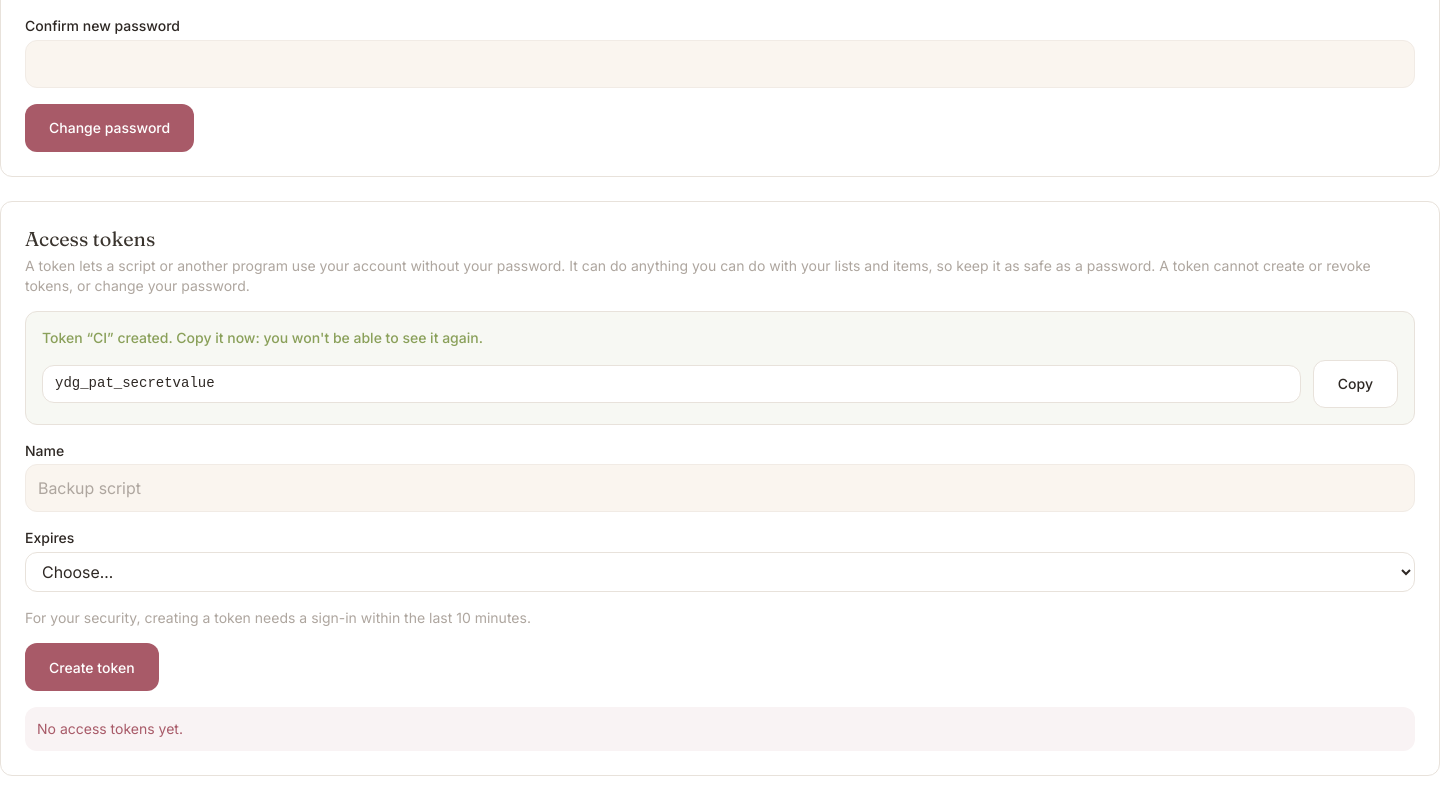
Test: copying a new token (ADR-0016 §7) › says copied when the browser could copy
This screenshot has width=1440, height=788.
(page scrolled)
What coordinates should you click on to do the following:
click the button "Copy"
I would click on:
 (1355, 384)
Its box is [1313,360,1398,408].
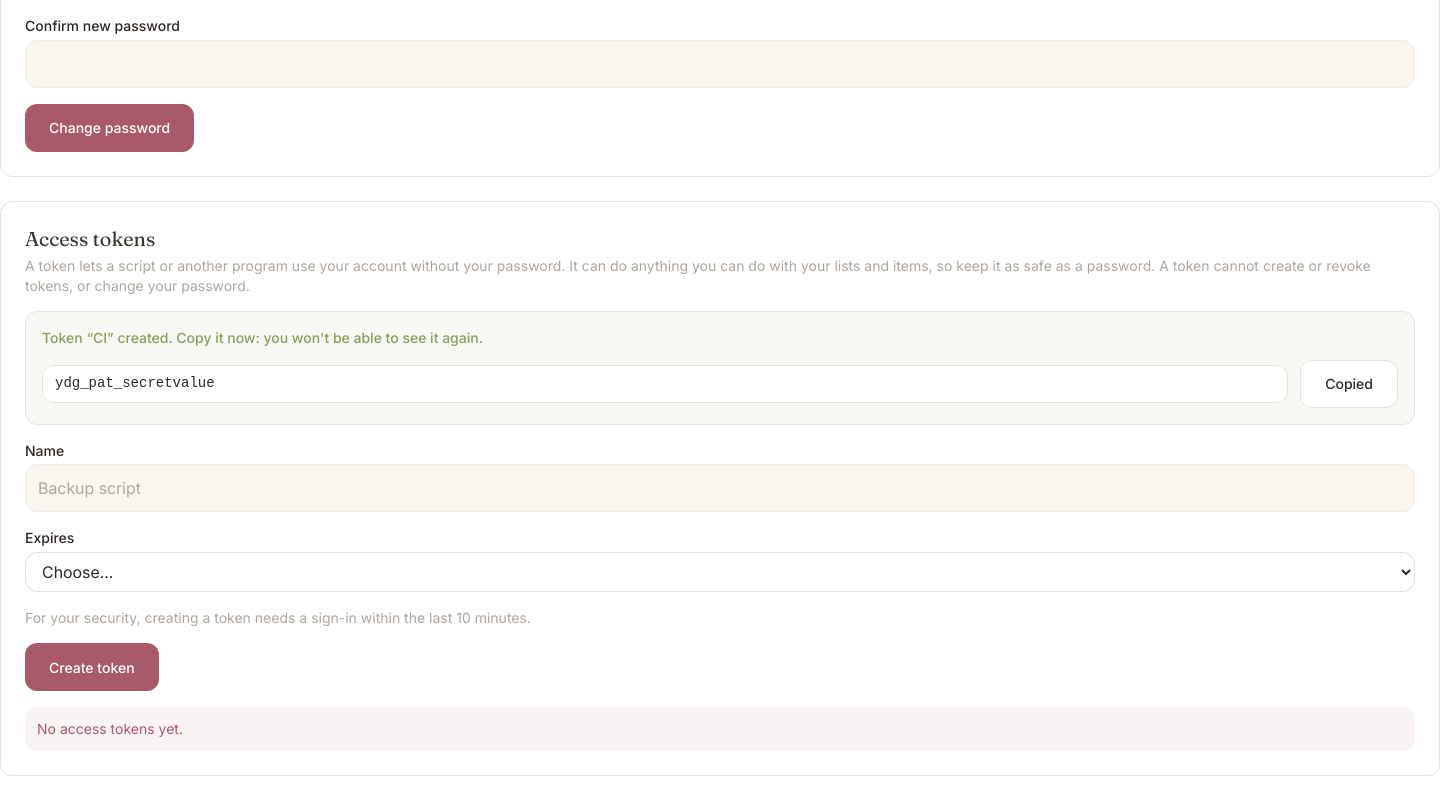
Now the button "Copied" is shown, box [1300,360,1398,408]
